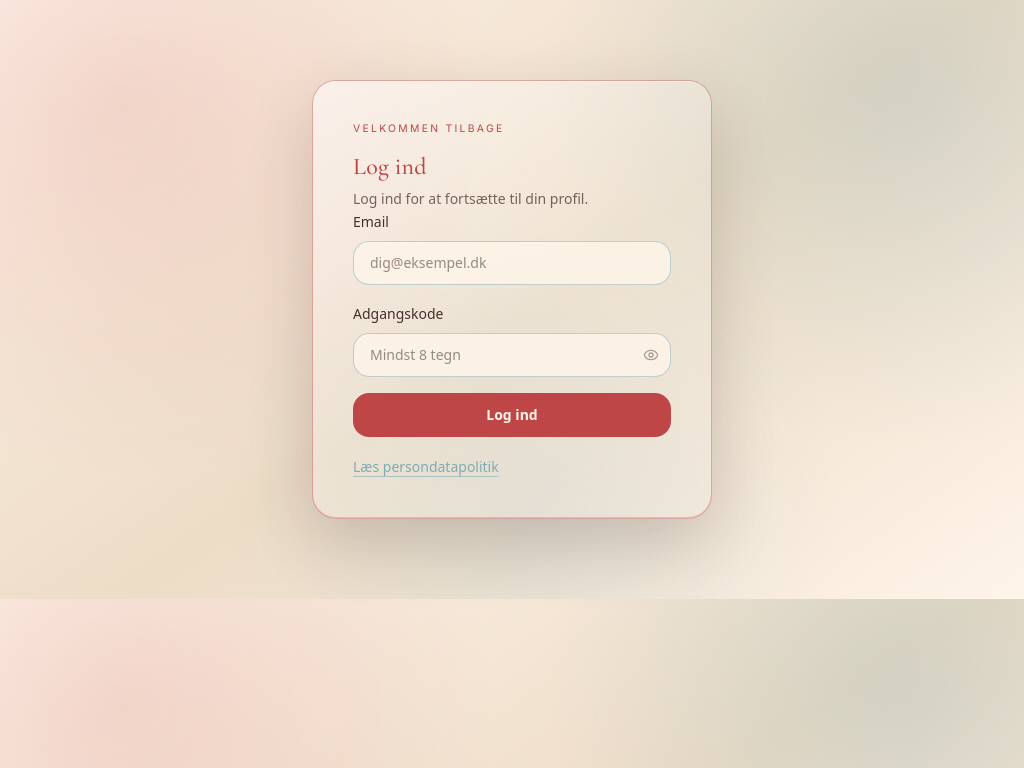
LoginPage › renders server error message
Type "admin@example.com" into the field labelled "Email" at (512, 263), box [353,241,671,285]
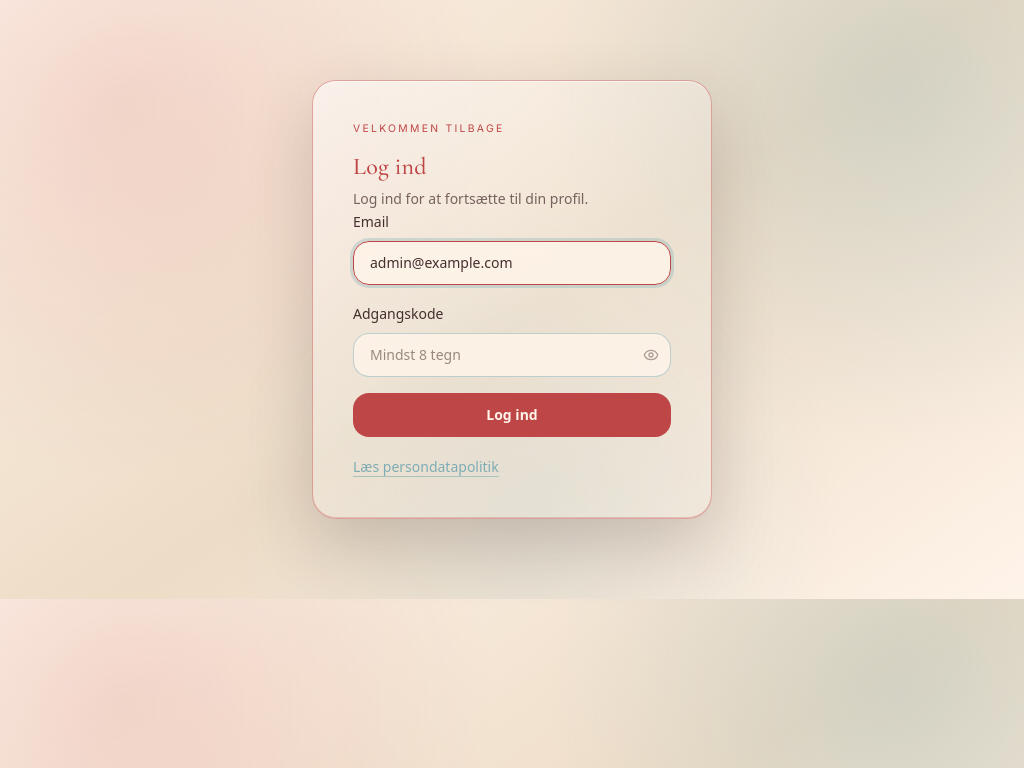
Type "wrong-password" into the password field labelled "Adgangskode" at (512, 355), box [353,333,671,377]
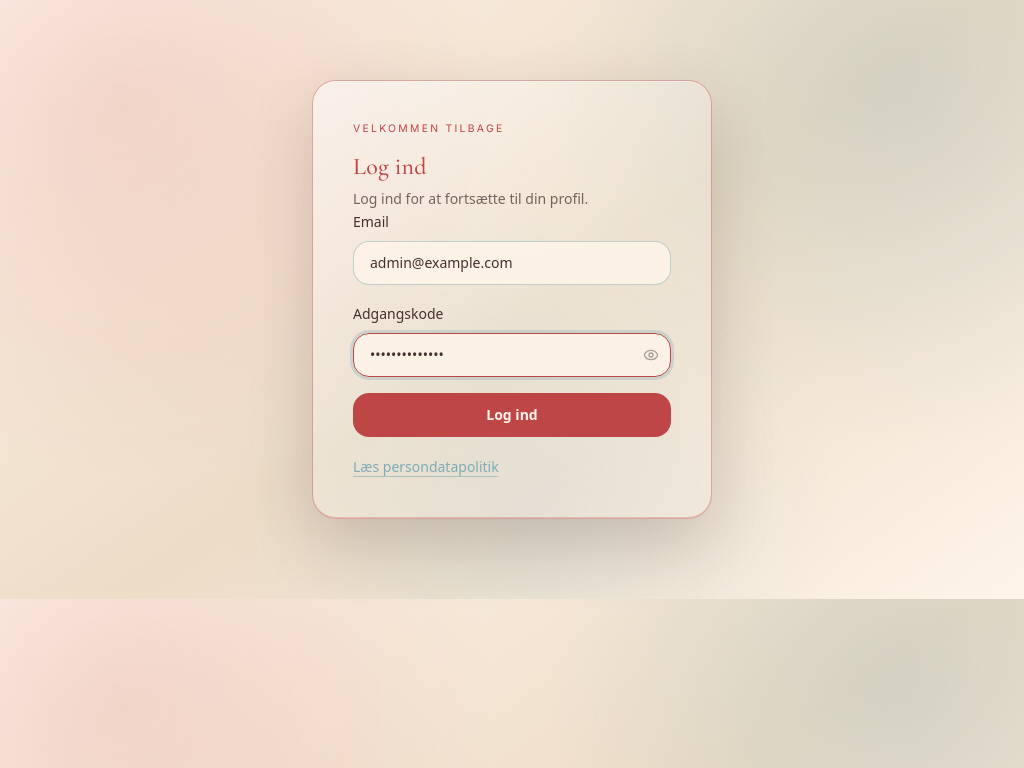
Click the button "Log ind" at (512, 415), box [353,393,671,437]
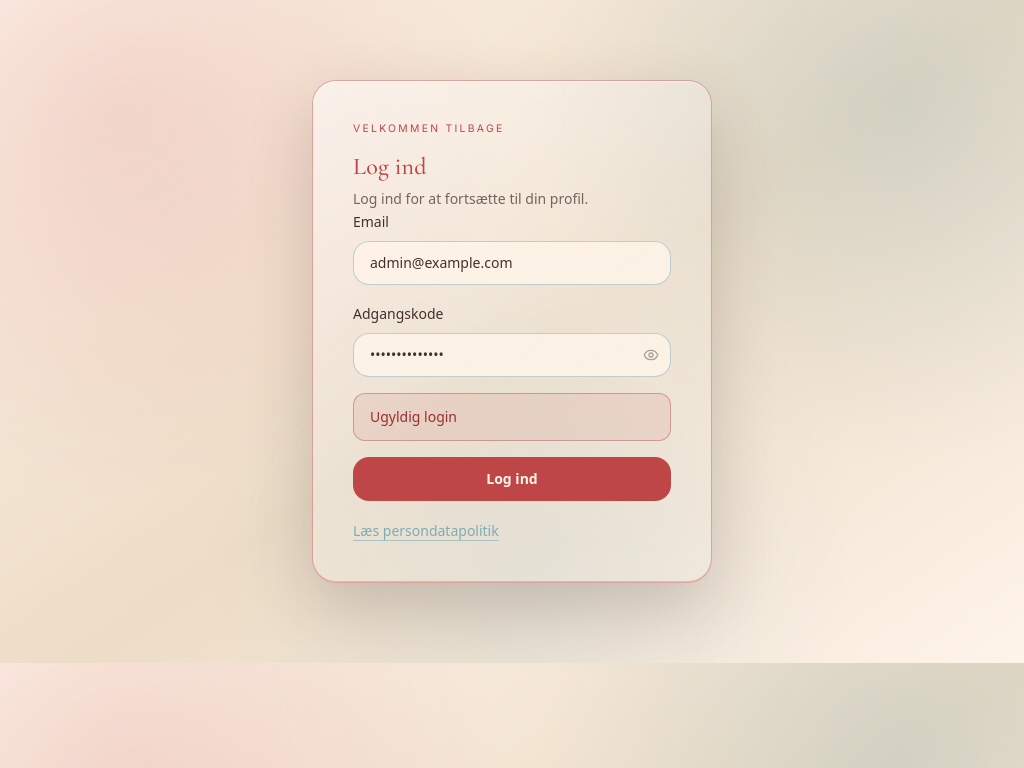
Result: the text "Ugyldig login" is shown at [370,407,457,426]
